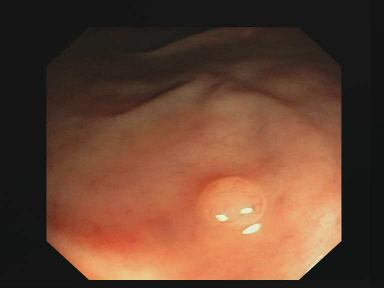polyp: (186, 153, 286, 243)
